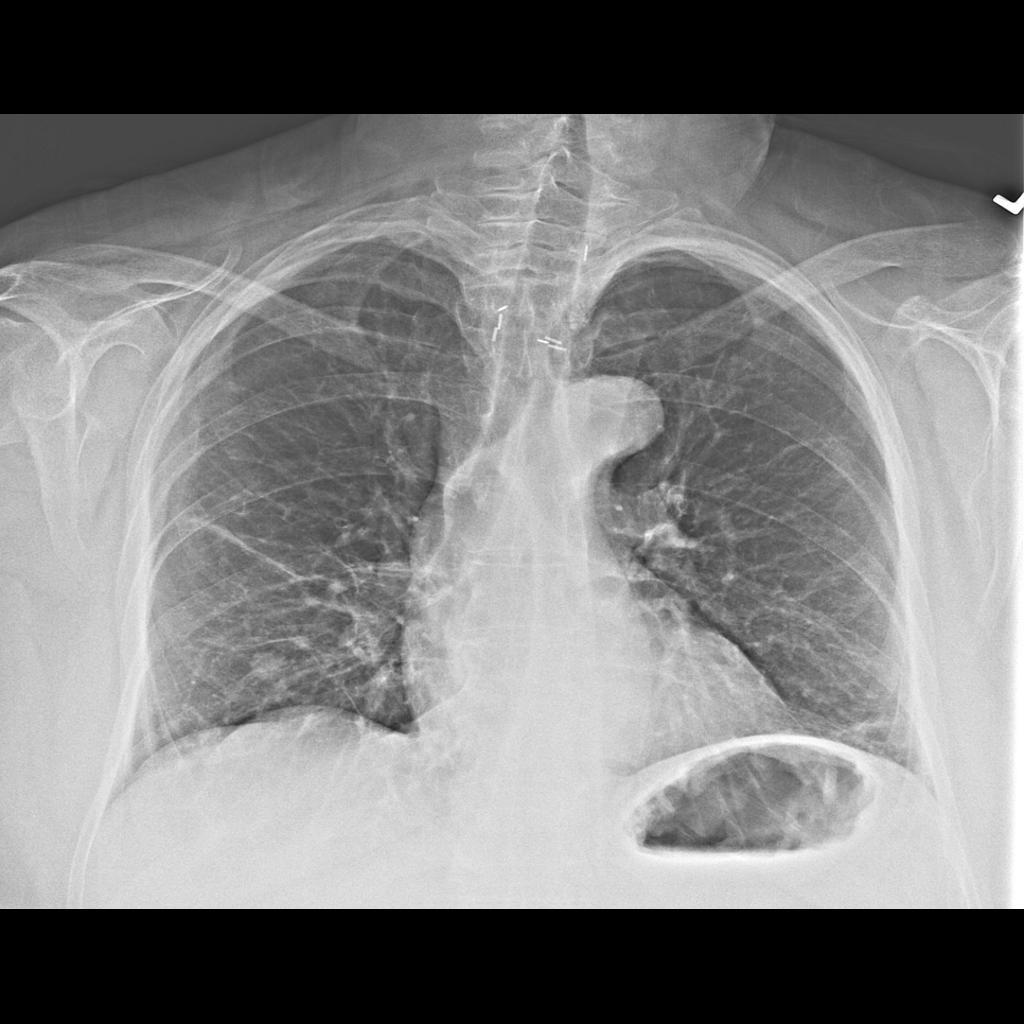Nodule: (253, 655, 280, 676)
